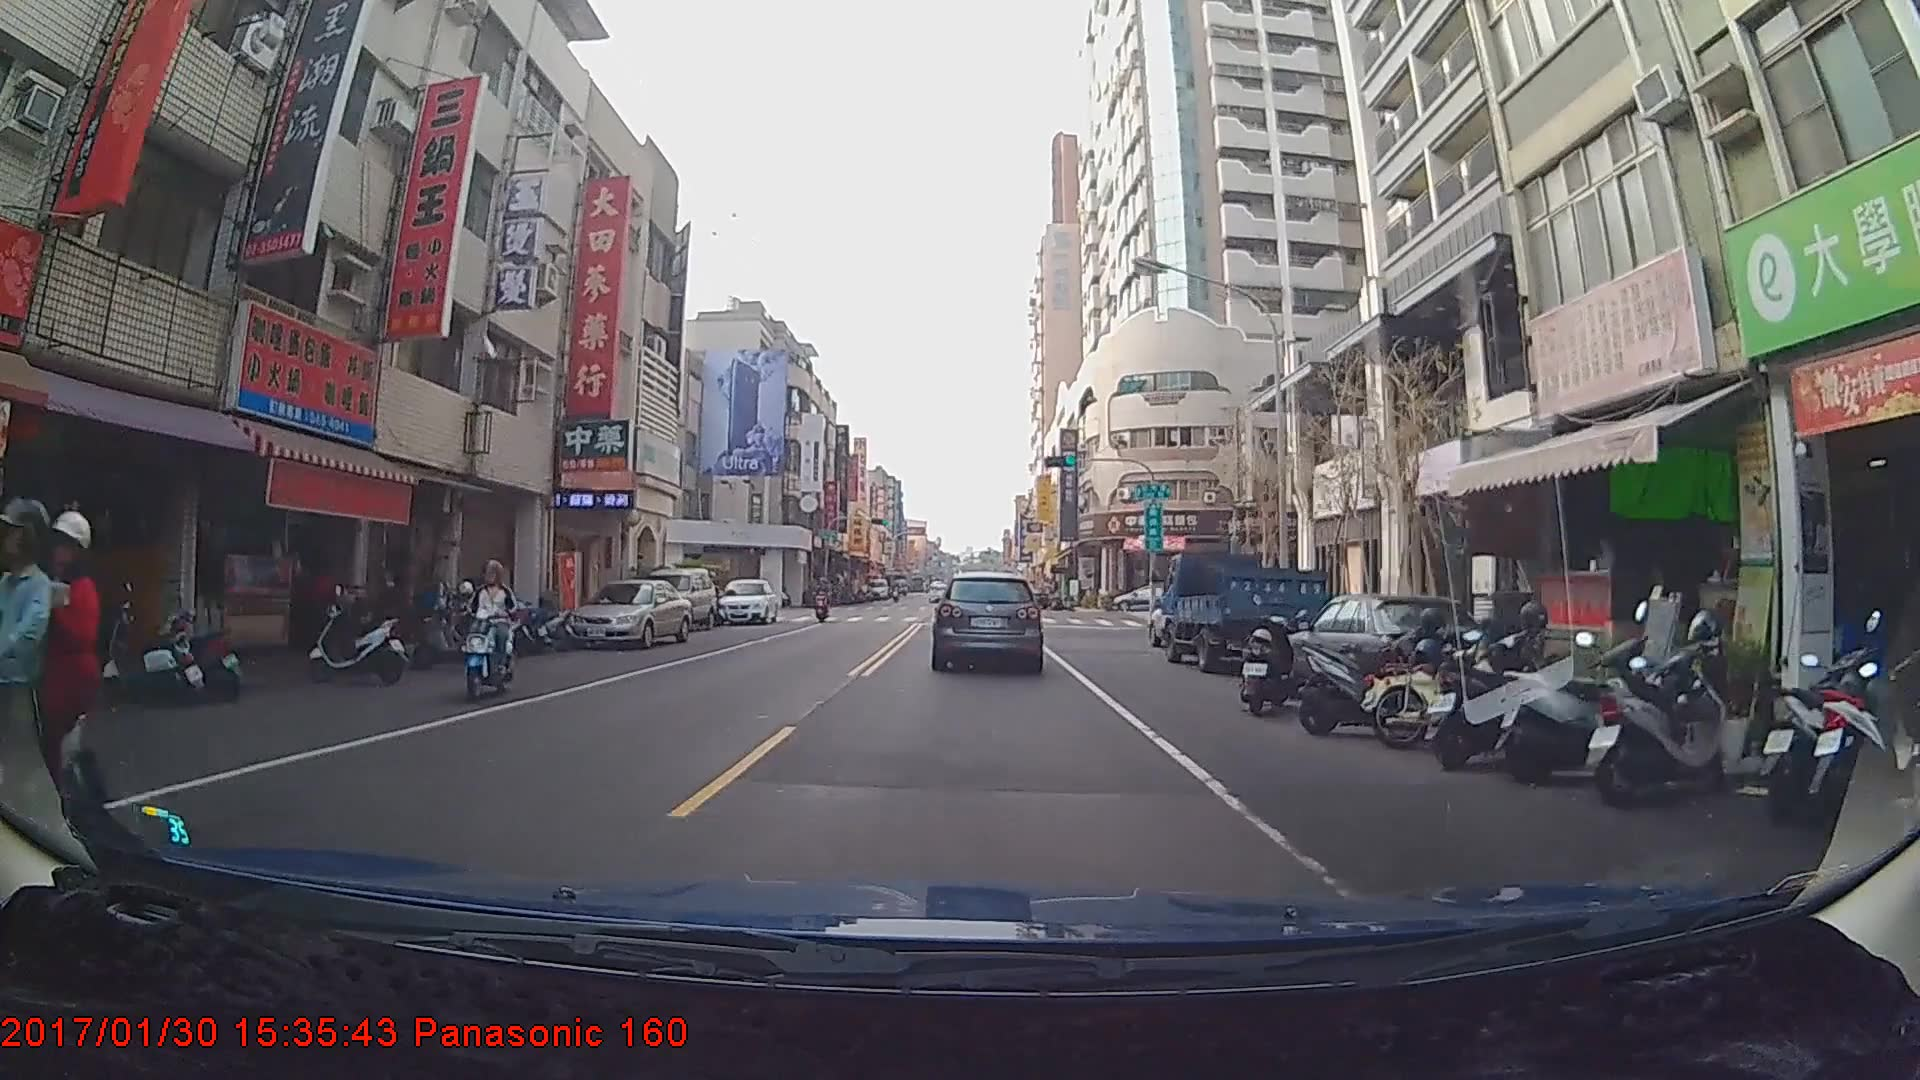rider: (1, 485, 113, 868), (458, 559, 523, 699), (812, 579, 833, 626)
vehicle: (1158, 550, 1329, 674), (932, 571, 1043, 671), (562, 577, 692, 649), (631, 564, 718, 633), (716, 575, 780, 626), (1110, 582, 1178, 612)
